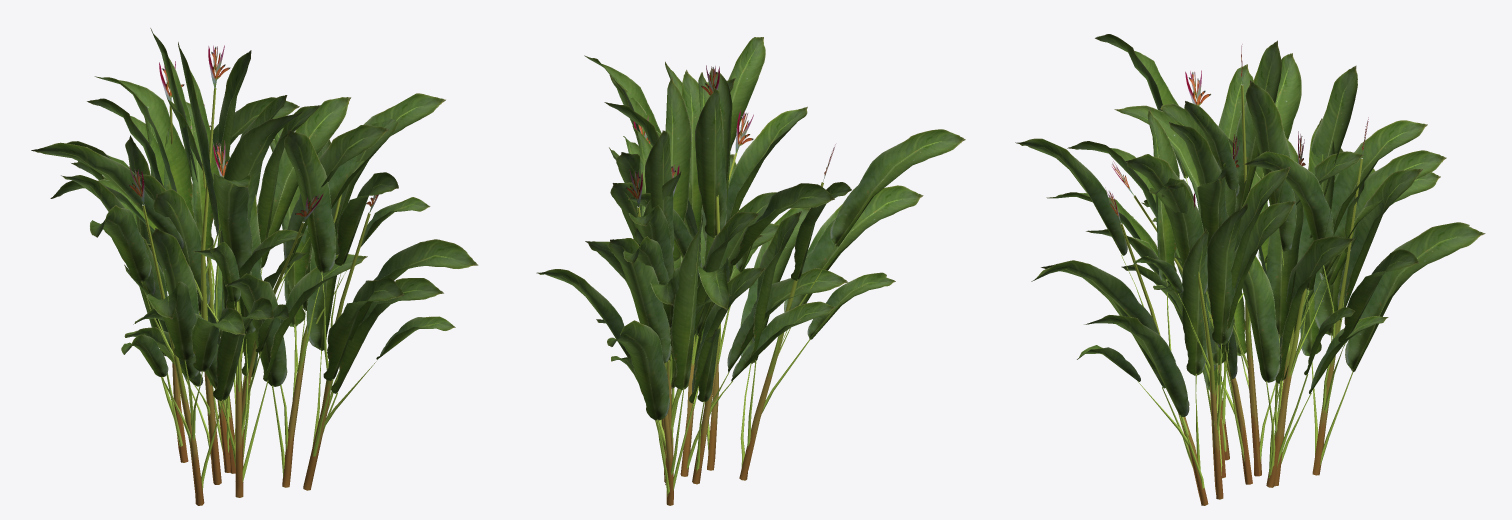
File: heliconia.glb
The picture shows the model from 3 angles, left to right: view 1: azimuth 30°, elevation 25°; view 2: azimuth 150°, elevation 25°; view 3: azimuth 270°, elevation 25°; orthographic projection. The views are drawn at different scales.
Visible parts, largest first — view 1: Mesh1 HELICONIA_PSITTACORUM_RT2 HELICONIA_PSITTACORUM_RT1 HE, Mesh72 HELICONIA_PSITTACORUM_RT4 HELICONIA_PSITTACORUM_RT1 H, Mesh63 HELICONIA_PSITTACORUM_RT3 HELICONIA_PSITTACORUM_RT1 H; view 2: Mesh1 HELICONIA_PSITTACORUM_RT2 HELICONIA_PSITTACORUM_RT1 HE, Mesh72 HELICONIA_PSITTACORUM_RT4 HELICONIA_PSITTACORUM_RT1 H, Mesh63 HELICONIA_PSITTACORUM_RT3 HELICONIA_PSITTACORUM_RT1 H; view 3: Mesh1 HELICONIA_PSITTACORUM_RT2 HELICONIA_PSITTACORUM_RT1 HE, Mesh72 HELICONIA_PSITTACORUM_RT4 HELICONIA_PSITTACORUM_RT1 H, Mesh63 HELICONIA_PSITTACORUM_RT3 HELICONIA_PSITTACORUM_RT1 H.
Part boxes in pixels (x1,y1,x2,y2): Mesh1 HELICONIA_PSITTACORUM_RT2 HELICONIA_PSITTACORUM_RT1 HE: [31, 28, 478, 400]; Mesh72 HELICONIA_PSITTACORUM_RT4 HELICONIA_PSITTACORUM_RT1 H: [141, 88, 376, 505]; Mesh63 HELICONIA_PSITTACORUM_RT3 HELICONIA_PSITTACORUM_RT1 H: [128, 45, 378, 222]; Mesh1 HELICONIA_PSITTACORUM_RT2 HELICONIA_PSITTACORUM_RT1 HE: [536, 37, 965, 420]; Mesh72 HELICONIA_PSITTACORUM_RT4 HELICONIA_PSITTACORUM_RT1 H: [637, 153, 835, 505]; Mesh63 HELICONIA_PSITTACORUM_RT3 HELICONIA_PSITTACORUM_RT1 H: [626, 65, 835, 207]; Mesh1 HELICONIA_PSITTACORUM_RT2 HELICONIA_PSITTACORUM_RT1 HE: [1015, 34, 1485, 416]; Mesh72 HELICONIA_PSITTACORUM_RT4 HELICONIA_PSITTACORUM_RT1 H: [1120, 85, 1362, 505]; Mesh63 HELICONIA_PSITTACORUM_RT3 HELICONIA_PSITTACORUM_RT1 H: [1105, 44, 1368, 223].
Bounding box in the file's own units: 3.35 × 3.6 × 3.67.
4 materials, 3 textured.
